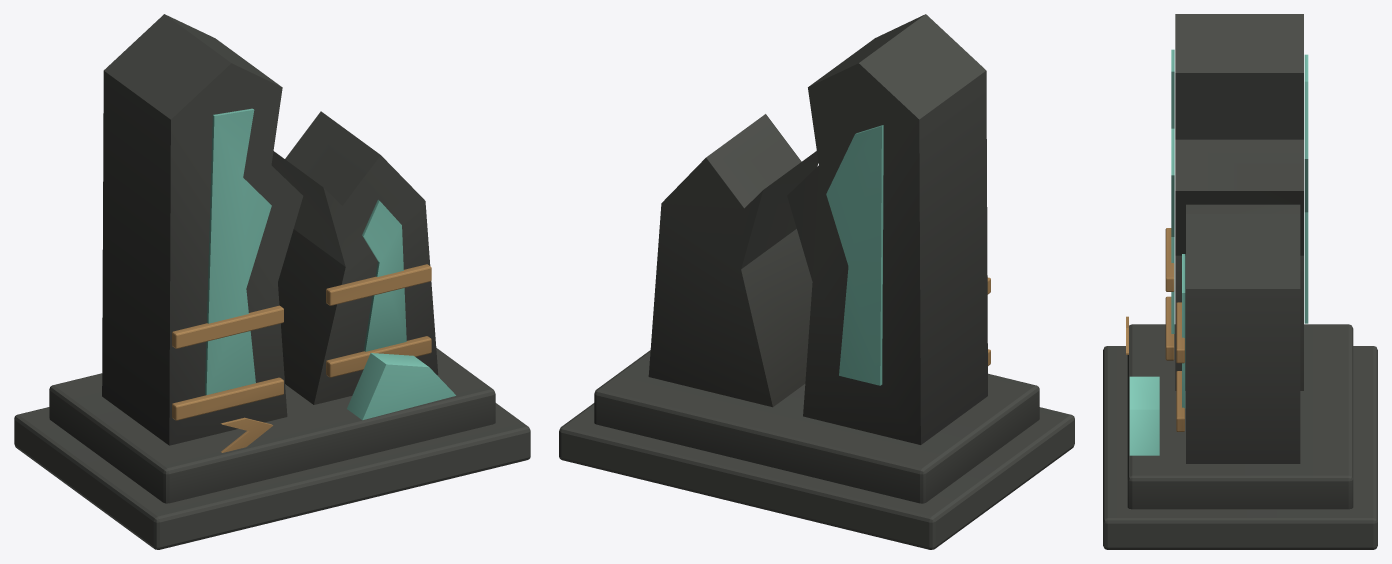
The model's file is emberglass-waystone-v1.glb.
The picture shows the model from 3 angles, left to right: view 1: azimuth 30°, elevation 25°; view 2: azimuth 150°, elevation 25°; view 3: azimuth 270°, elevation 25°; orthographic projection. The views are drawn at different scales.
Visible parts, largest first — view 1: GB_WAYSTONE_BASALT, GB_WAYSTONE_GLASS, GB_WAYSTONE_COPPER; view 2: GB_WAYSTONE_BASALT, GB_WAYSTONE_GLASS; view 3: GB_WAYSTONE_BASALT, GB_WAYSTONE_GLASS, GB_WAYSTONE_COPPER.
Boxes of the visible parts, x1,y1,x2,y2 form: GB_WAYSTONE_BASALT: (14,14,530,549); GB_WAYSTONE_GLASS: (205,108,455,420); GB_WAYSTONE_COPPER: (172,264,431,452); GB_WAYSTONE_BASALT: (559,14,1074,549); GB_WAYSTONE_GLASS: (826,125,883,385); GB_WAYSTONE_BASALT: (1103,14,1377,549); GB_WAYSTONE_GLASS: (1129,49,1308,455); GB_WAYSTONE_COPPER: (1126,228,1184,431).
Bounding box in the file's own units: 2.36 × 2.6 × 1.56.
